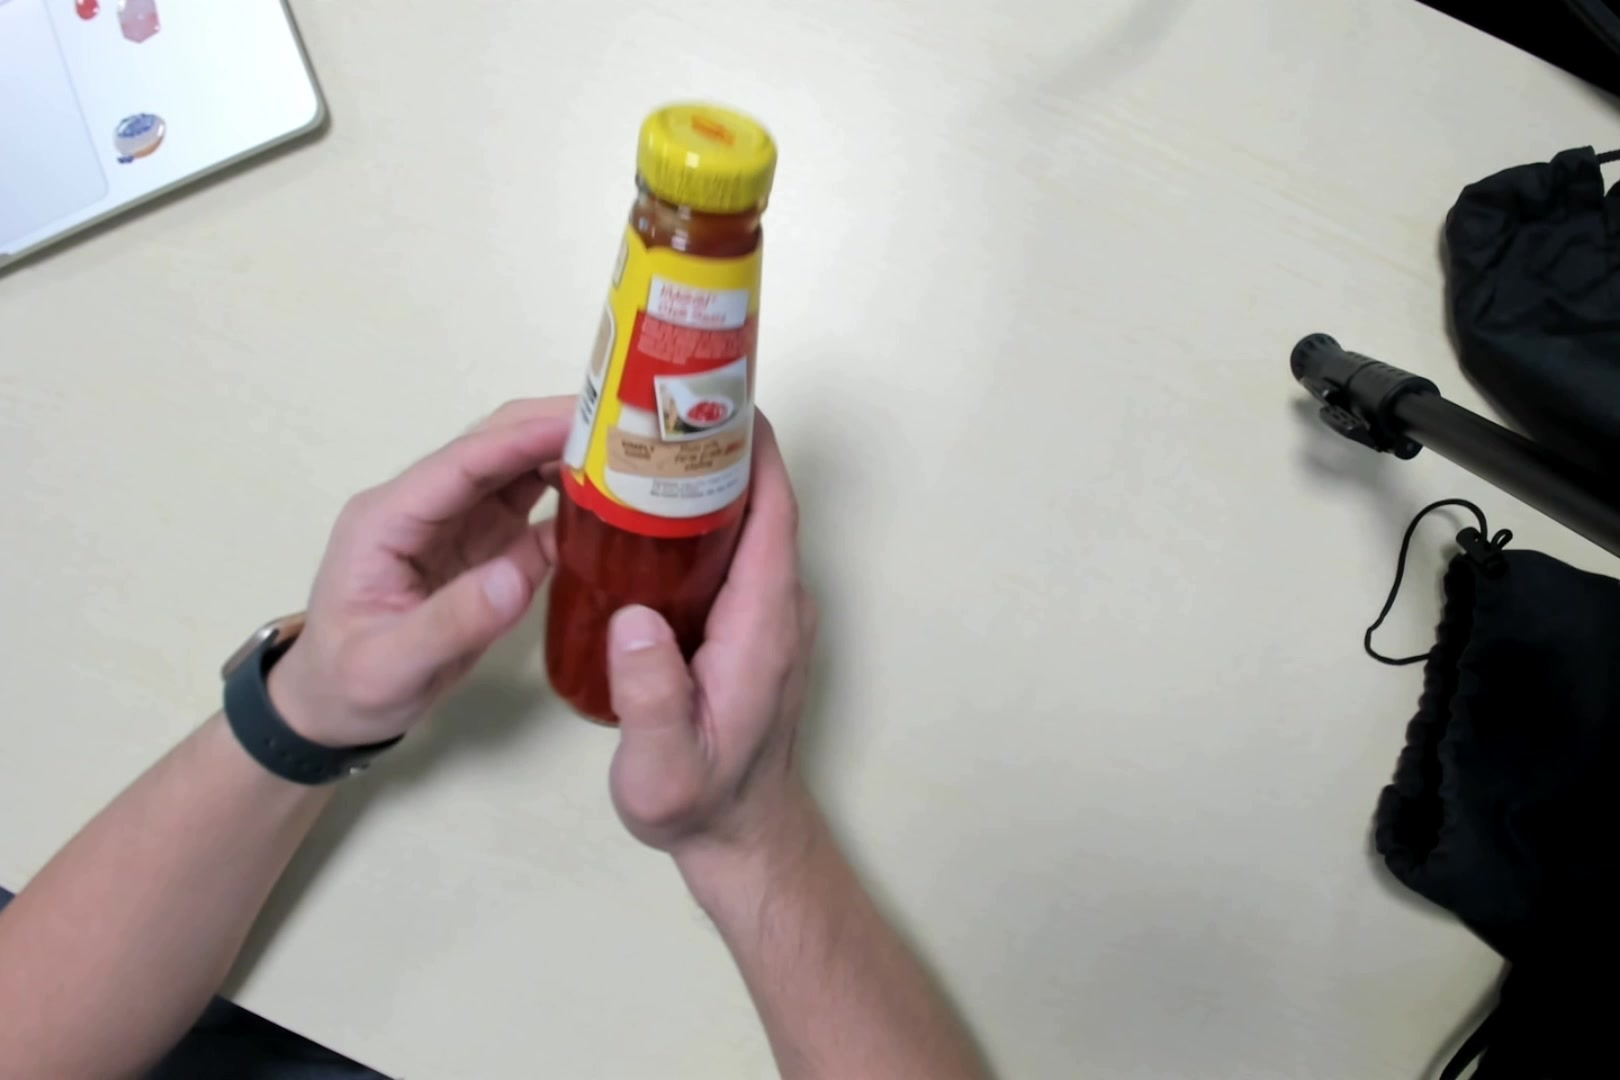KetchupChillSauce_300-399g_Halal_NonHealthy: (548, 100, 773, 739)
